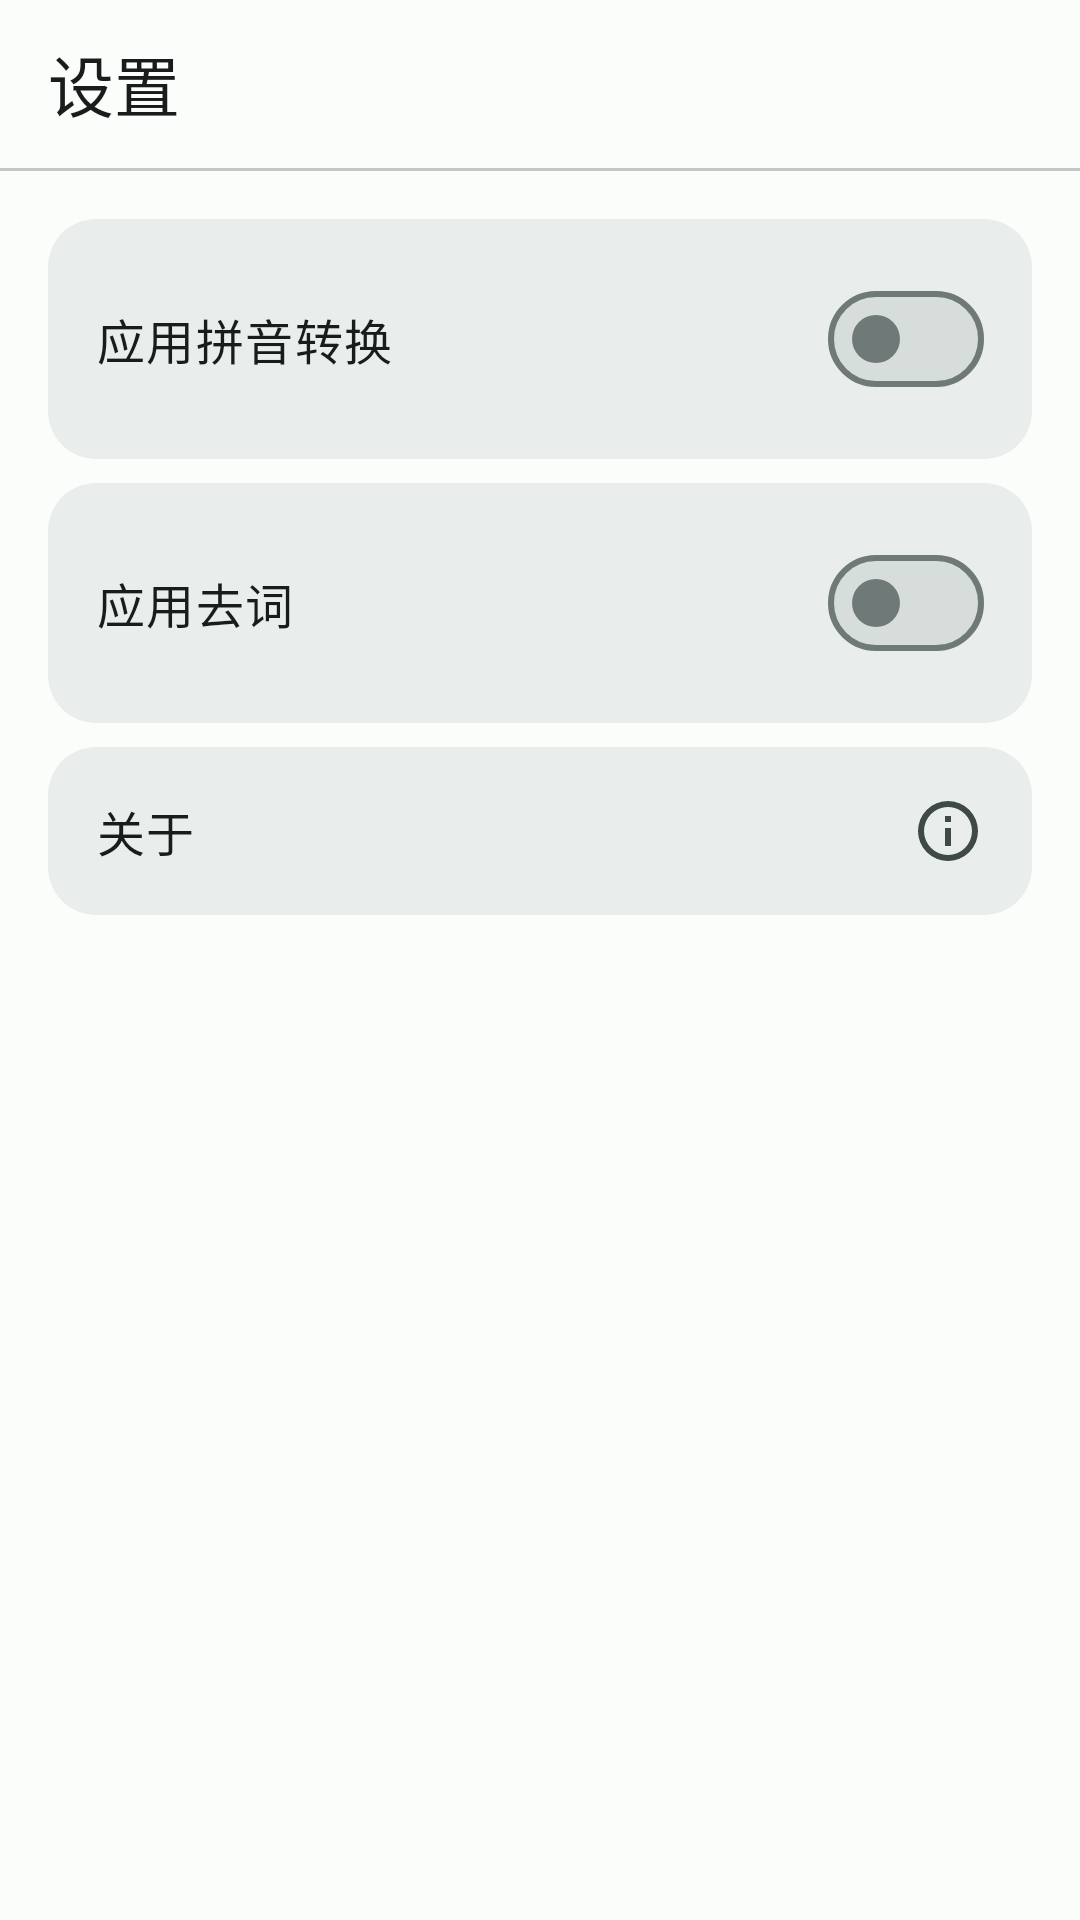

Icons on this 1080px×1920px Android screen, each with the point to tap as [x,y]:
about: [948,831]
